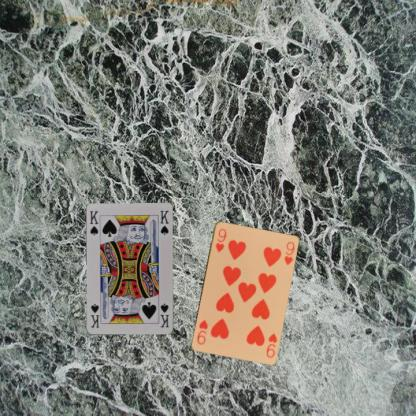9h: (263, 330, 278, 359), (212, 226, 228, 253)
Ks: (88, 208, 100, 237), (158, 301, 170, 329)
